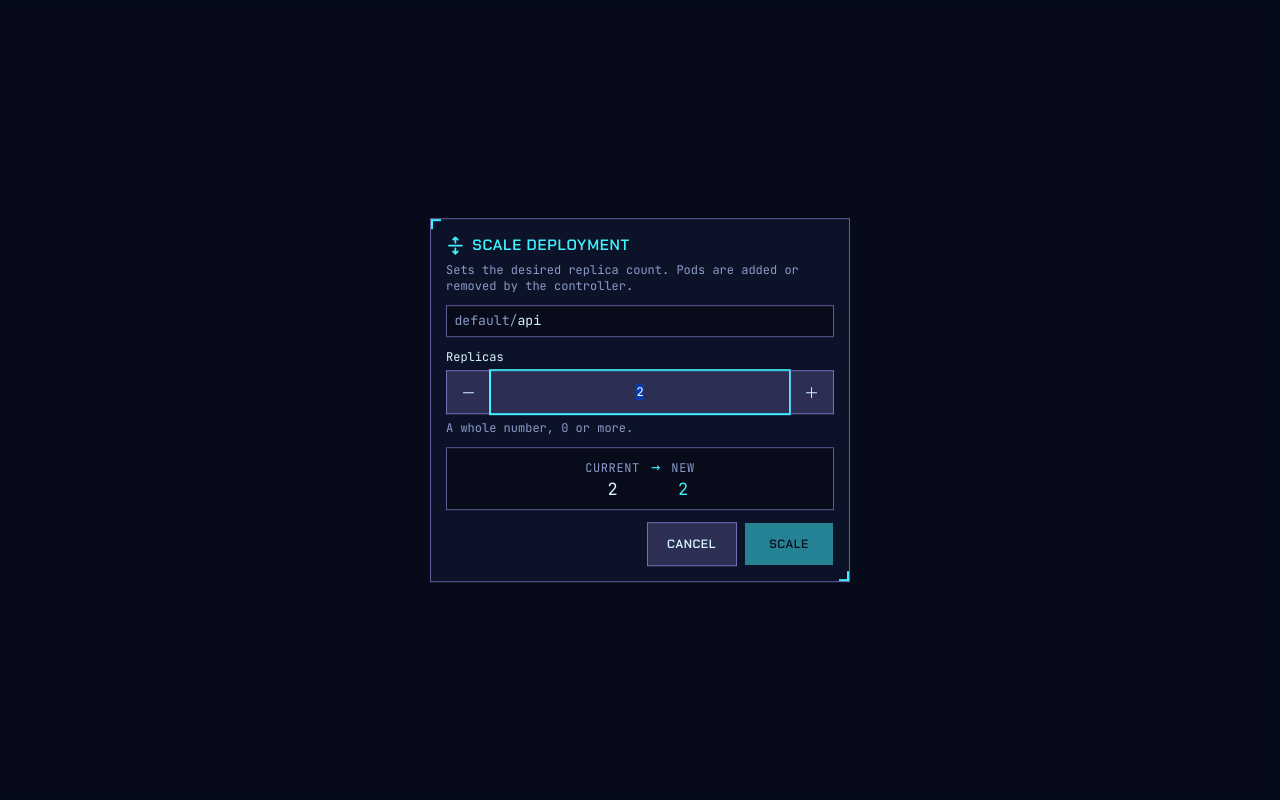
Test: ScaleDialog › steppers adjust the count; invalid input disables submit
The width and height of the screenshot is (1280, 800).
Click the button with test id "scale-increment". click: (812, 392)
box: [790, 370, 834, 414]
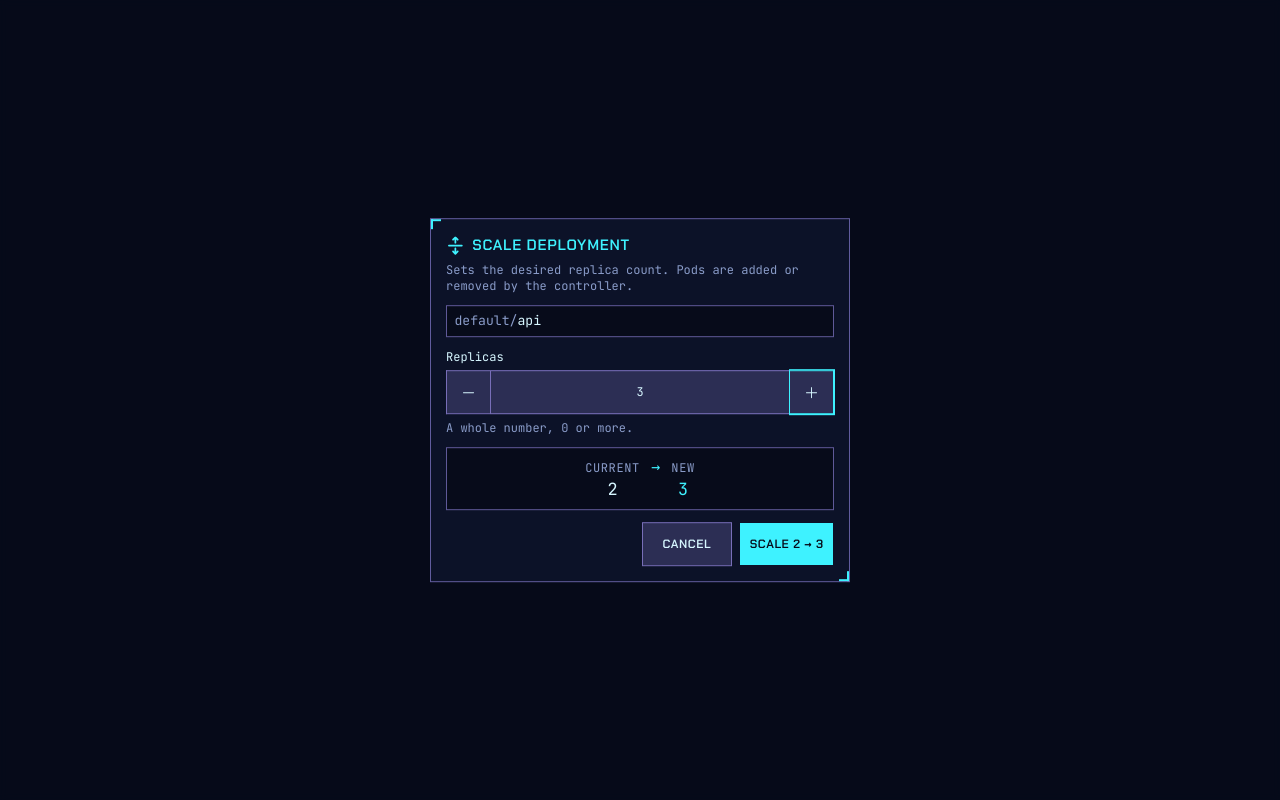
Now the text with test id "scale-new" reads "3", box [678, 478, 688, 500]
Clear the number field labelled "Replicas". click: (640, 392)
box: [490, 370, 790, 414]
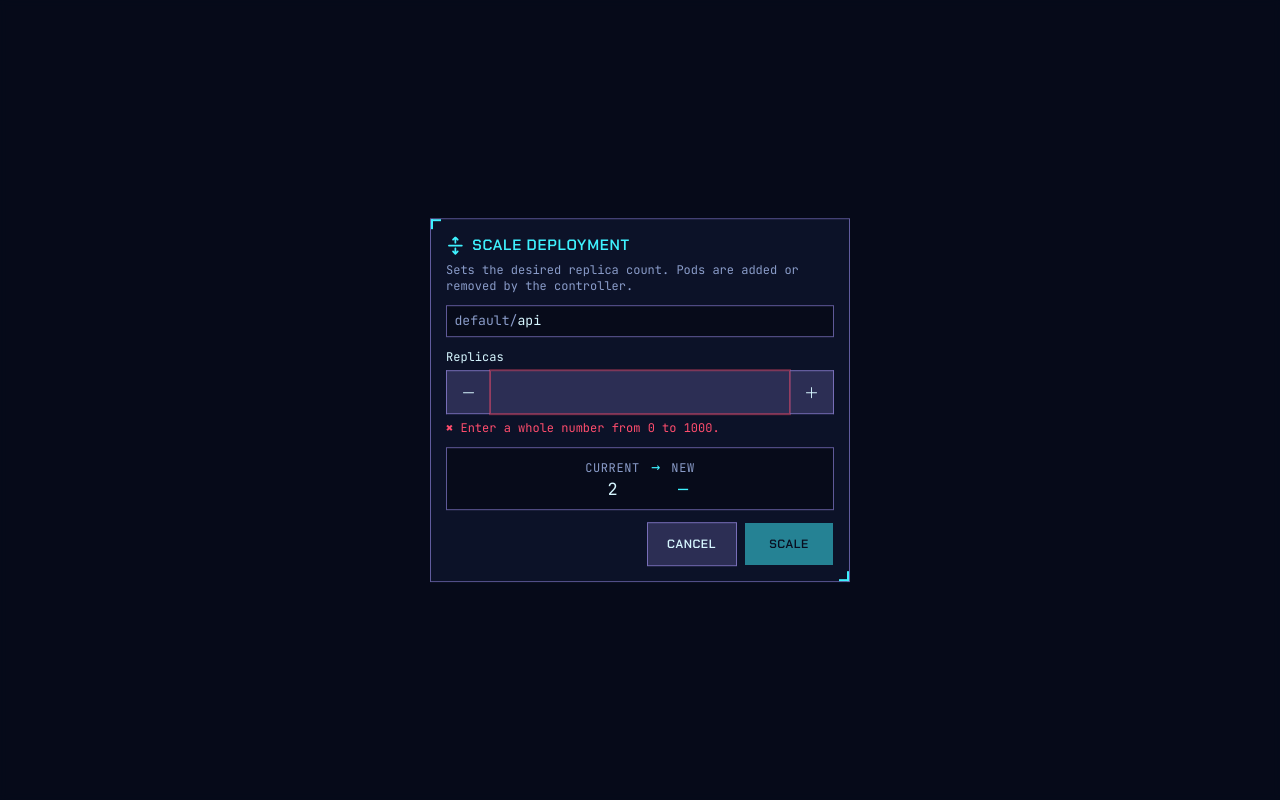
Now the button with test id "scale-submit" is disabled, box [744, 522, 834, 566]
